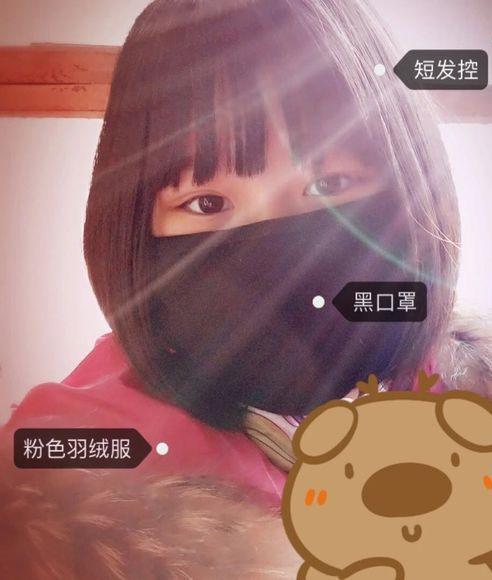OK: (158, 142, 403, 387)
